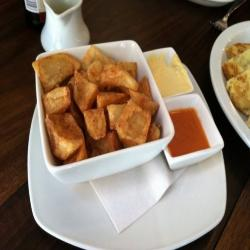fries: (37, 54, 160, 155)
ketchup: (165, 109, 210, 155)
